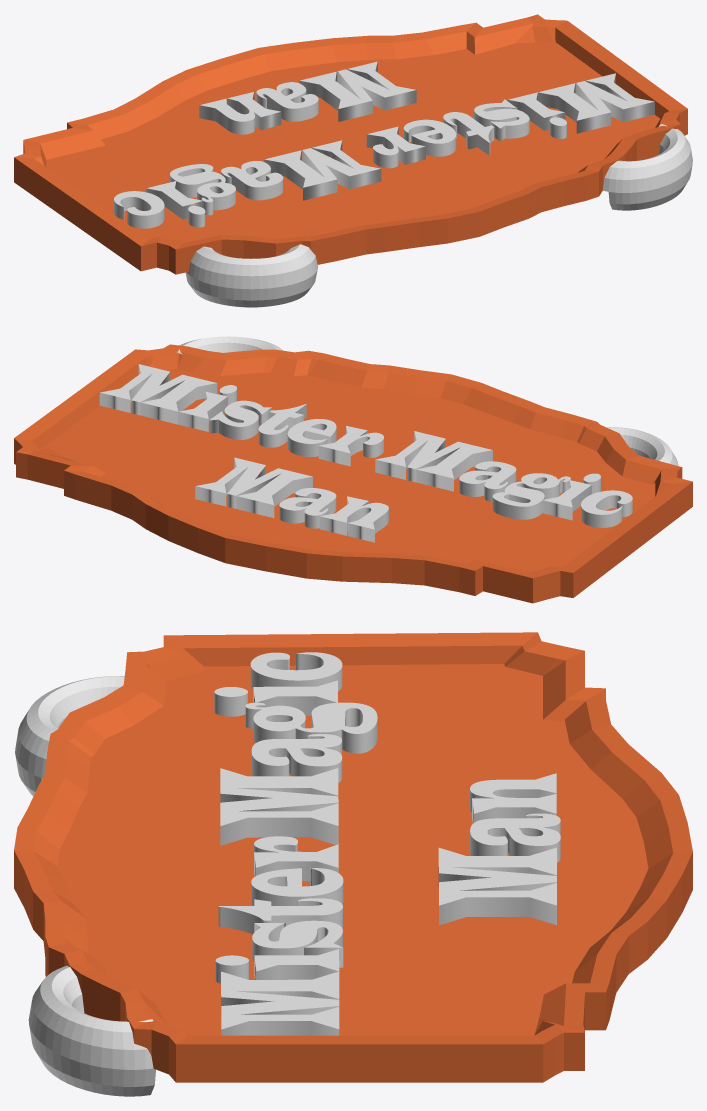
The model's file is sign.fbx.
3 views of the same model, one above another, from view 1: azimuth 30°, elevation 25°; view 2: azimuth 150°, elevation 25°; view 3: azimuth 270°, elevation 25° (orthographic). The views are drawn at different scales.
Parts seen in each view (by area): view 1: Plane, Tajjda, Torus.003, Torus.001; view 2: Plane, Tajjda, Torus.003, Torus.001; view 3: Plane, Tajjda, Torus.001, Torus.003.
Boxes of the visible parts, x1=… form: Plane: x1=14, y1=14, x2=687, y2=274; Tajjda: x1=114, y1=61, x2=654, y2=228; Torus.003: x1=185, y1=244, x2=317, y2=307; Torus.001: x1=602, y1=124, x2=692, y2=210; Plane: x1=14, y1=344, x2=692, y2=603; Tajjda: x1=99, y1=364, x2=632, y2=542; Torus.003: x1=607, y1=427, x2=678, y2=465; Torus.001: x1=176, y1=336, x2=282, y2=354; Plane: x1=14, y1=632, x2=692, y2=1082; Tajjda: x1=214, y1=652, x2=560, y2=1035; Torus.001: x1=28, y1=966, x2=155, y2=1096; Torus.003: x1=15, y1=676, x2=124, y2=796.
Size of the model in its own units: 456 by 41.35 by 318.
